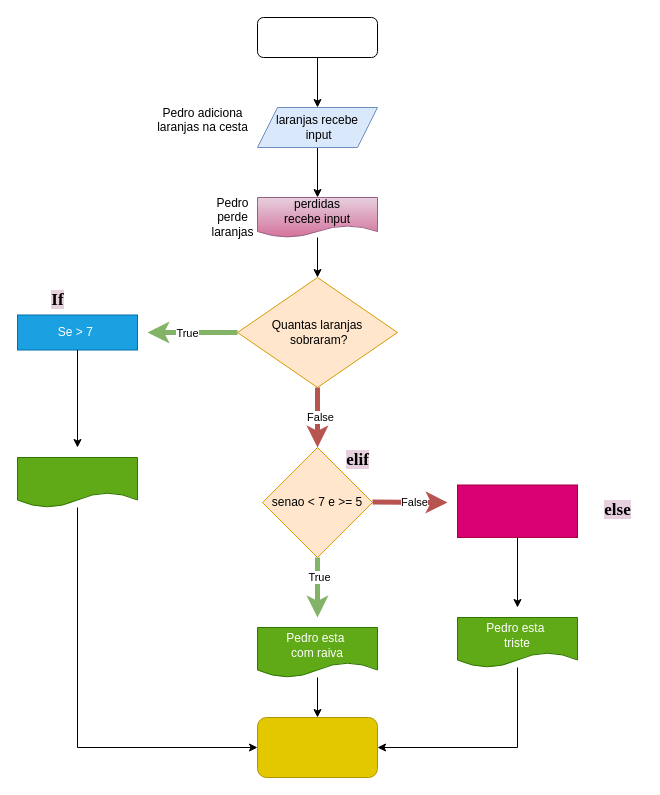
This 660x795 diagram has some shape labels left out. The shapes that lost their labels are listed below. From the top down, each one's centre as x and y in pixels, then its label:
the point at 317,37: Pedro Pega a Cesta
the point at 77,482: Pedro esta feliz
the point at 517,511: senao se < 5
the point at 317,747: Pedro volta para casa
